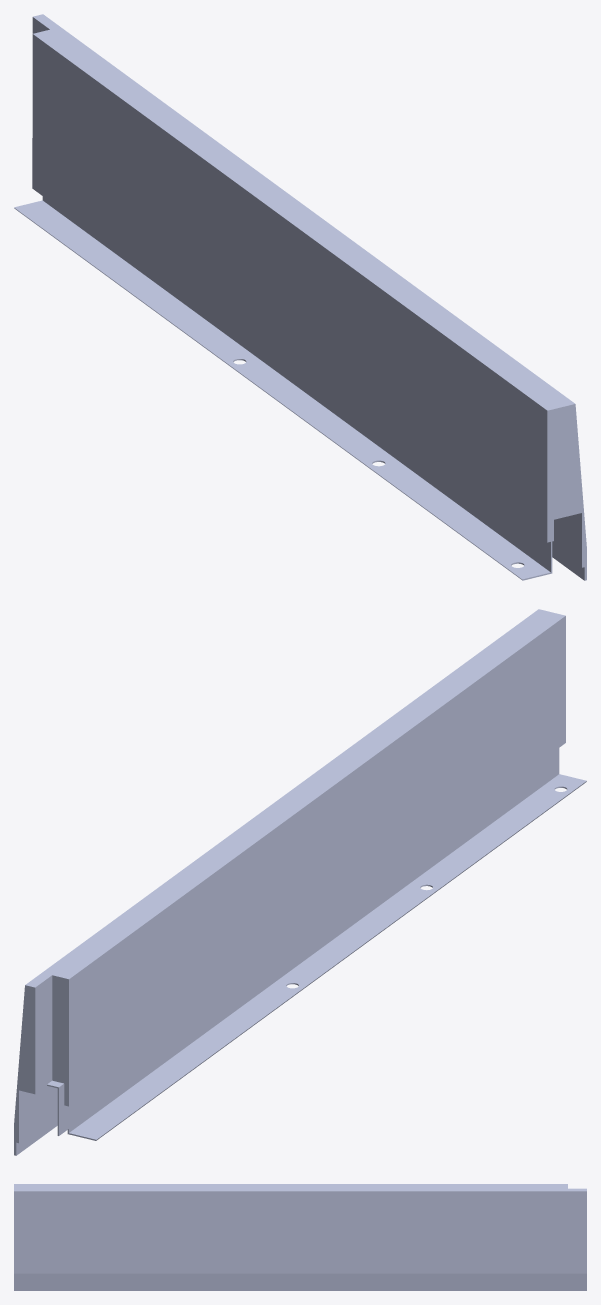
Rendered from mv-kava-M500-m.glb.
3 views of the same model, one above another, from view 1: azimuth 30°, elevation 25°; view 2: azimuth 150°, elevation 25°; view 3: azimuth 270°, elevation 25° (orthographic). The views are drawn at different scales.
Visible parts, largest first — view 1: 45709971; view 2: 45709971; view 3: 45709971.
Boxes of the visible parts, x1,y1,x2,y2 form: 45709971: (14, 14, 586, 580); 45709971: (14, 609, 586, 1155); 45709971: (14, 1184, 586, 1290).
Bounding box in the file's own units: 0.0335 × 0.091 × 0.4902.
